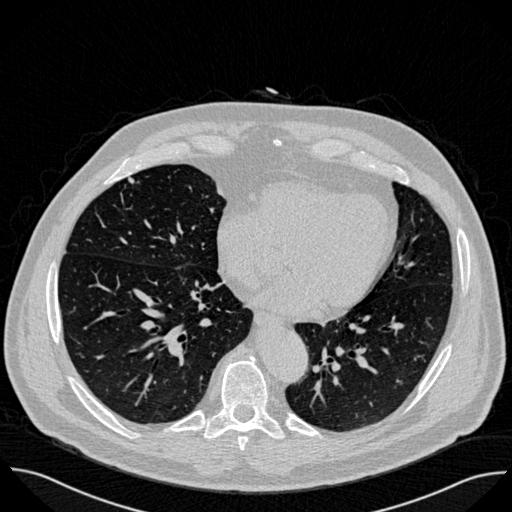nodule: (125, 175, 136, 186)
